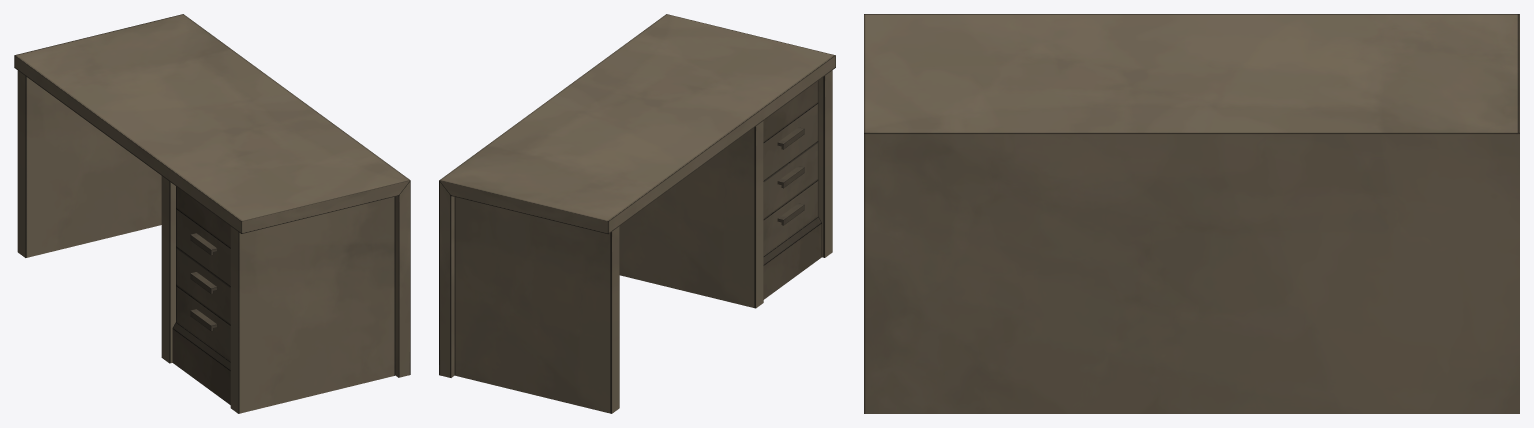
The model's file is desk.fbx.
The picture shows the model from 3 angles, left to right: view 1: azimuth 30°, elevation 25°; view 2: azimuth 150°, elevation 25°; view 3: azimuth 270°, elevation 25°; orthographic projection. The views are drawn at different scales.
Visible parts, largest first — view 1: polySurface963; view 2: polySurface963; view 3: polySurface963.
Part boxes in pixels (x1,y1,x2,y2): polySurface963: [14, 14, 410, 413]; polySurface963: [439, 14, 835, 413]; polySurface963: [864, 14, 1519, 413].
Size of the model in its own units: 0.9501 by 1.04 by 2.21.
